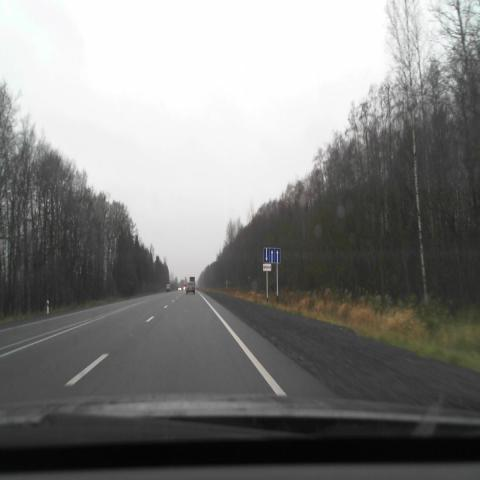5_15_7: (264, 248, 280, 264)
